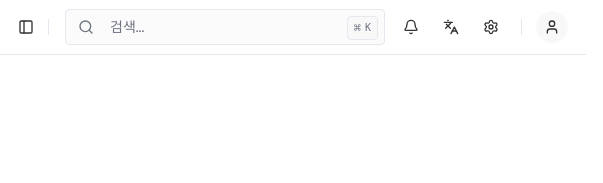
Test case: AppHeader › 사용자 메뉴 › 사용자 메뉴 클릭 시 드롭다운이 표시되어야 한다
Click the button with test id "user-menu-trigger" at (552, 27), box [534,9,570,45]
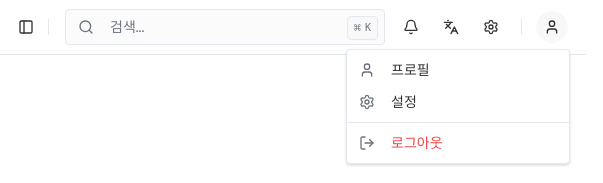
Expected: the menu item "프로필" is shown, [359,61,430,79]
Expected: the menu item "설정" is shown, [359,93,417,111]
Expected: the menu item "로그아웃" is shown, [359,134,442,152]
